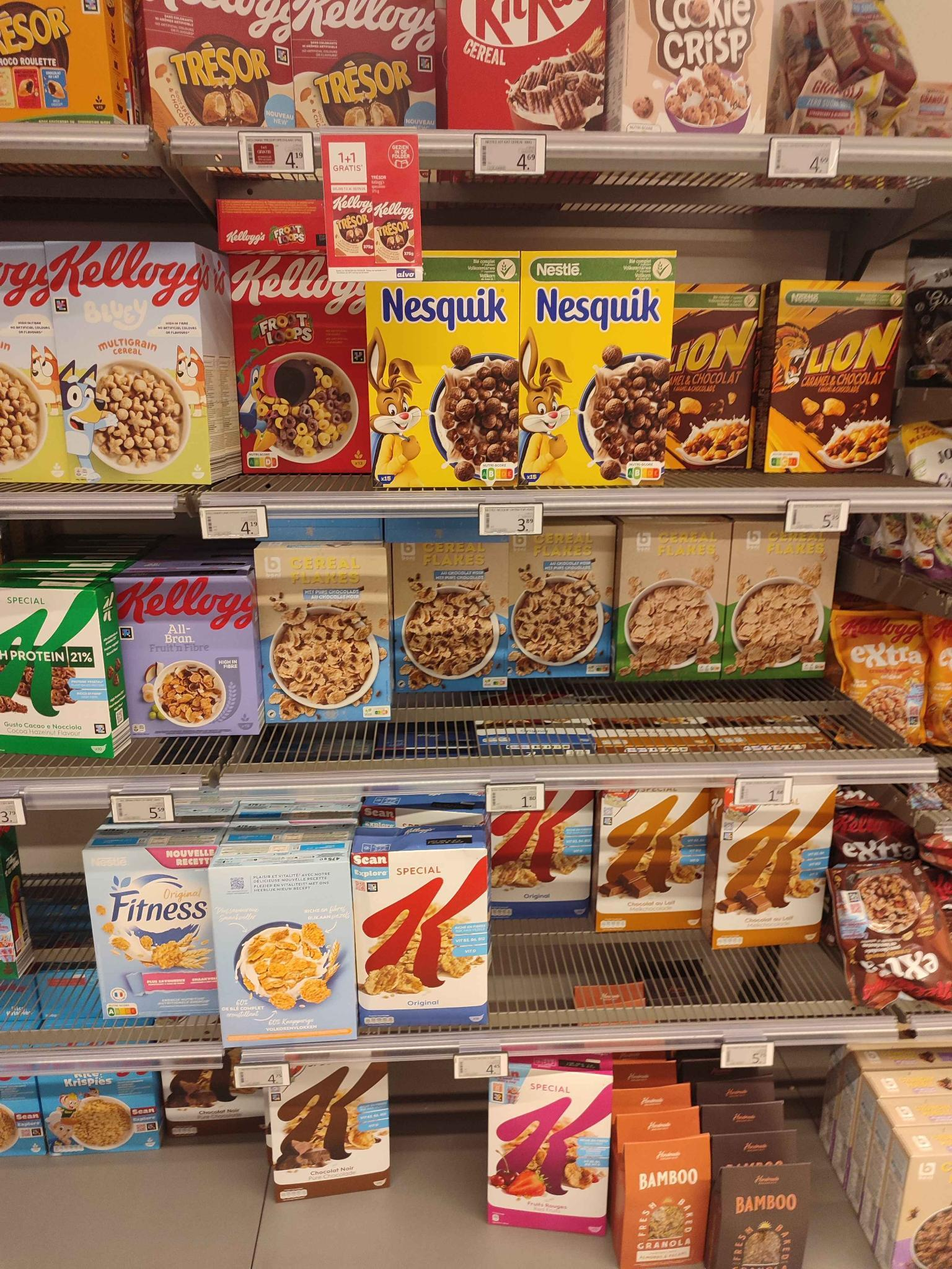nutri_A: (105, 1005, 136, 1016)
nutri_B: (477, 462, 517, 480), (626, 461, 662, 481)
nutri_C: (769, 448, 803, 470)
nutri_D: (247, 452, 278, 469), (362, 707, 390, 717)
shelf_bottom: (4, 804, 952, 1266)
shelf_middle: (1, 195, 952, 789)
shelf_top: (1, 3, 952, 180)
